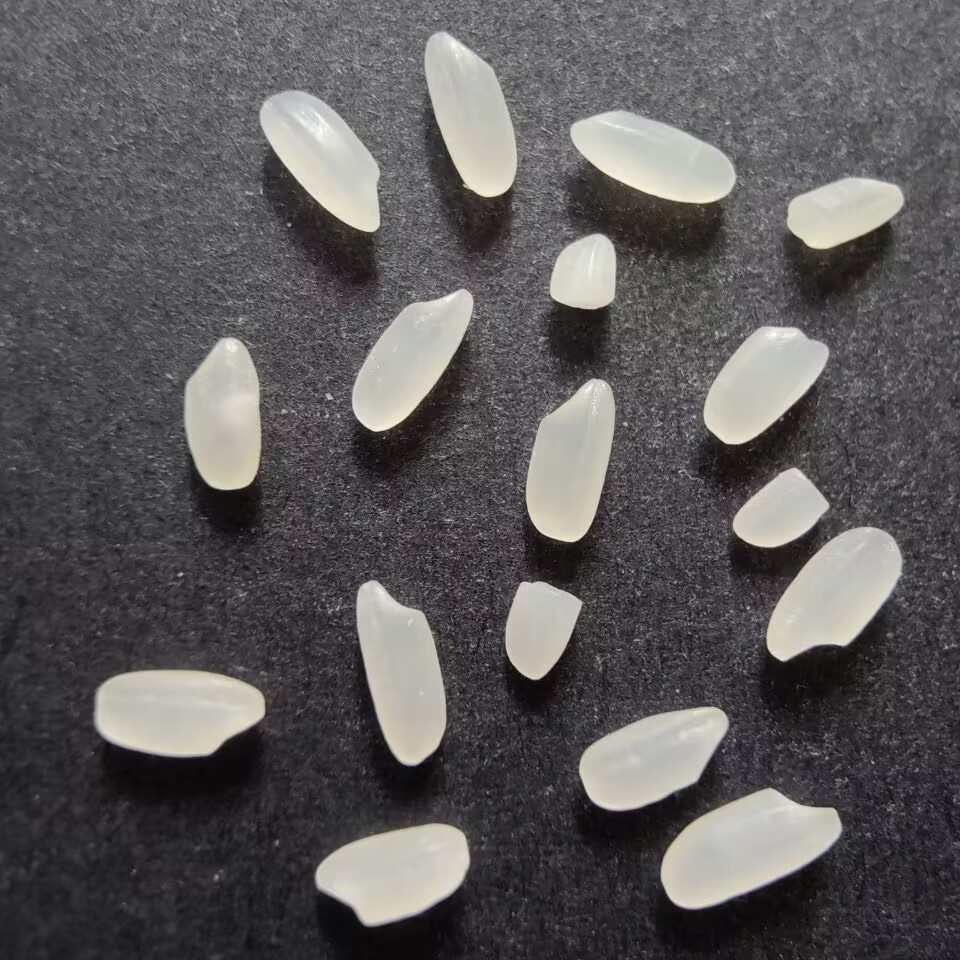broken: (781, 174, 908, 252), (728, 463, 832, 551), (500, 576, 584, 684), (545, 227, 620, 315)
rice: (656, 784, 846, 913), (254, 89, 386, 236), (765, 526, 904, 665), (353, 578, 453, 770), (349, 287, 477, 435), (573, 702, 731, 815), (420, 27, 523, 200), (311, 820, 475, 927), (559, 110, 737, 207), (520, 376, 619, 546), (86, 667, 267, 758), (702, 325, 831, 445), (178, 334, 264, 493)
